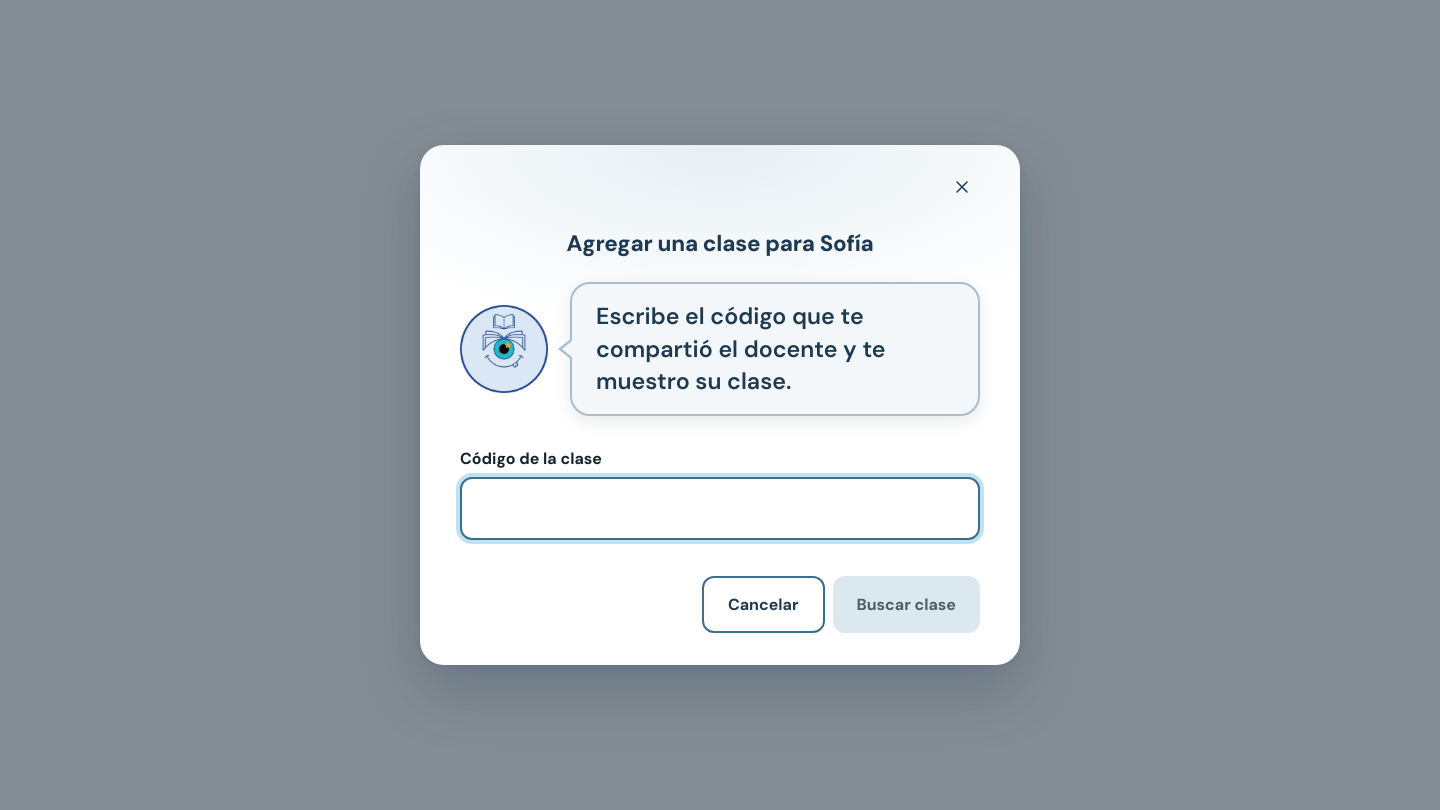
AddClassDialog › doesn't let the same request go twice
Type "k7#mp2$x" into the field labelled "Código de la clase".
click(720, 508); type("k7#mp2$x")  # box left=460, top=477, right=980, bottom=540
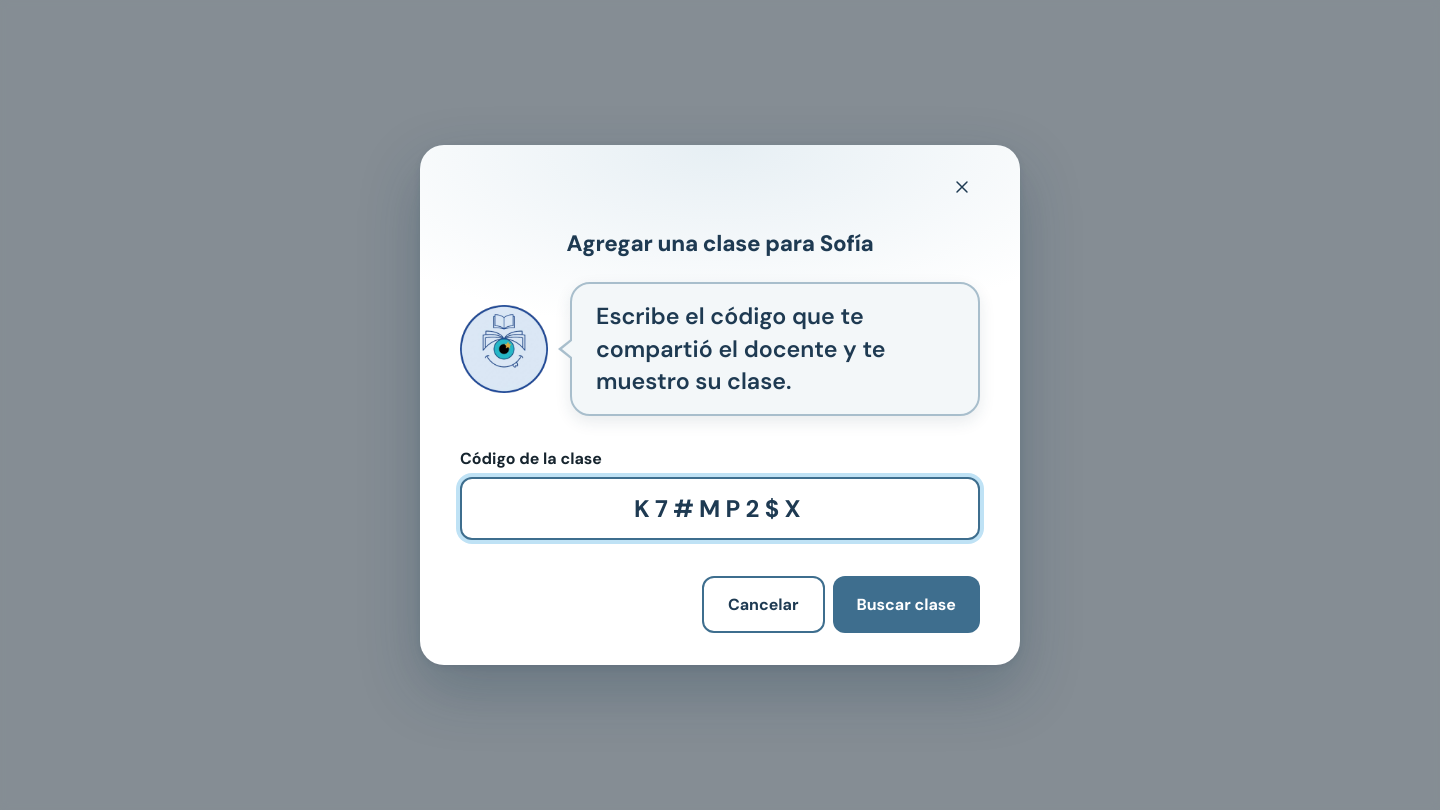
Click the button "Buscar clase".
click(906, 604)  # box left=832, top=576, right=980, bottom=633
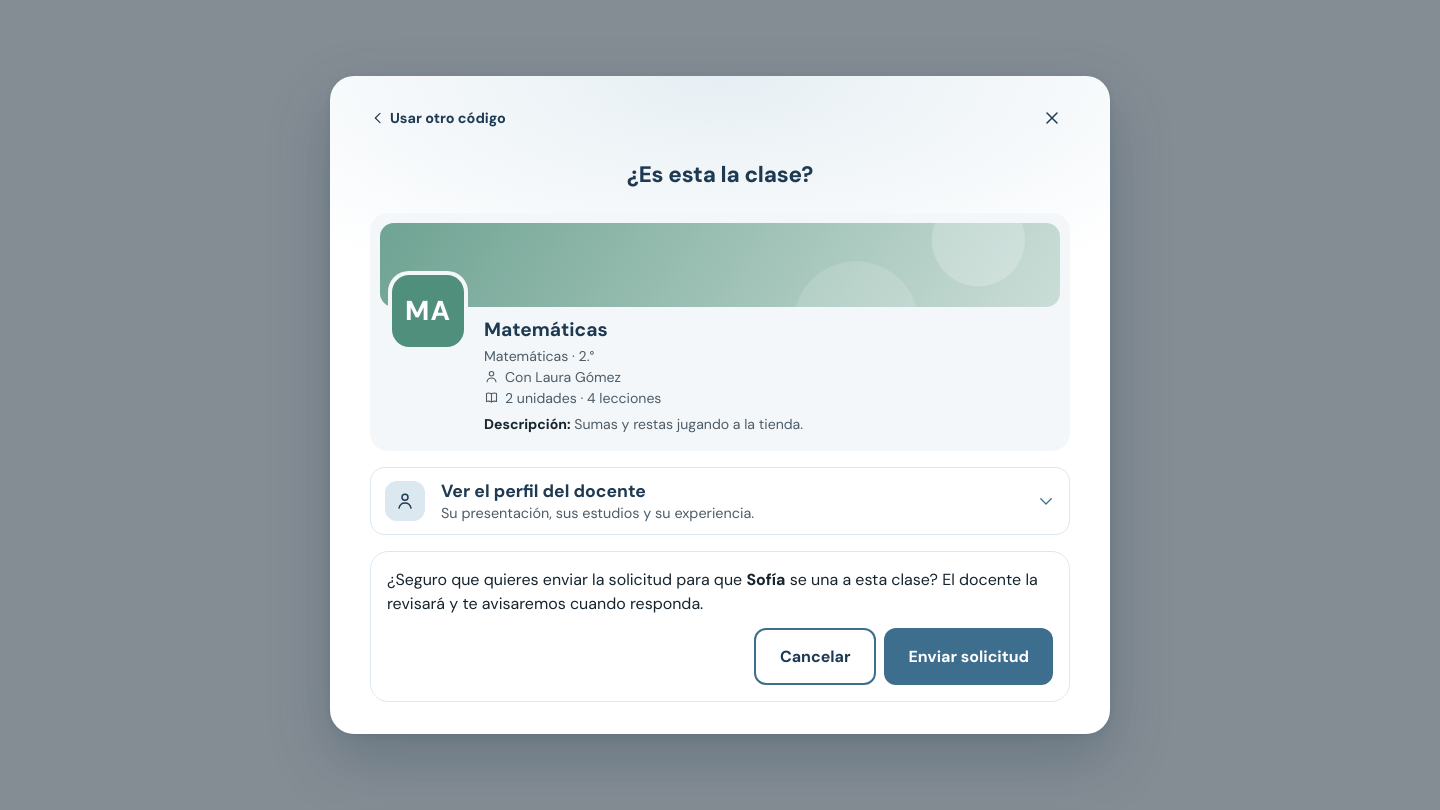
Click the button "Enviar solicitud".
click(969, 656)  # box left=884, top=628, right=1053, bottom=685
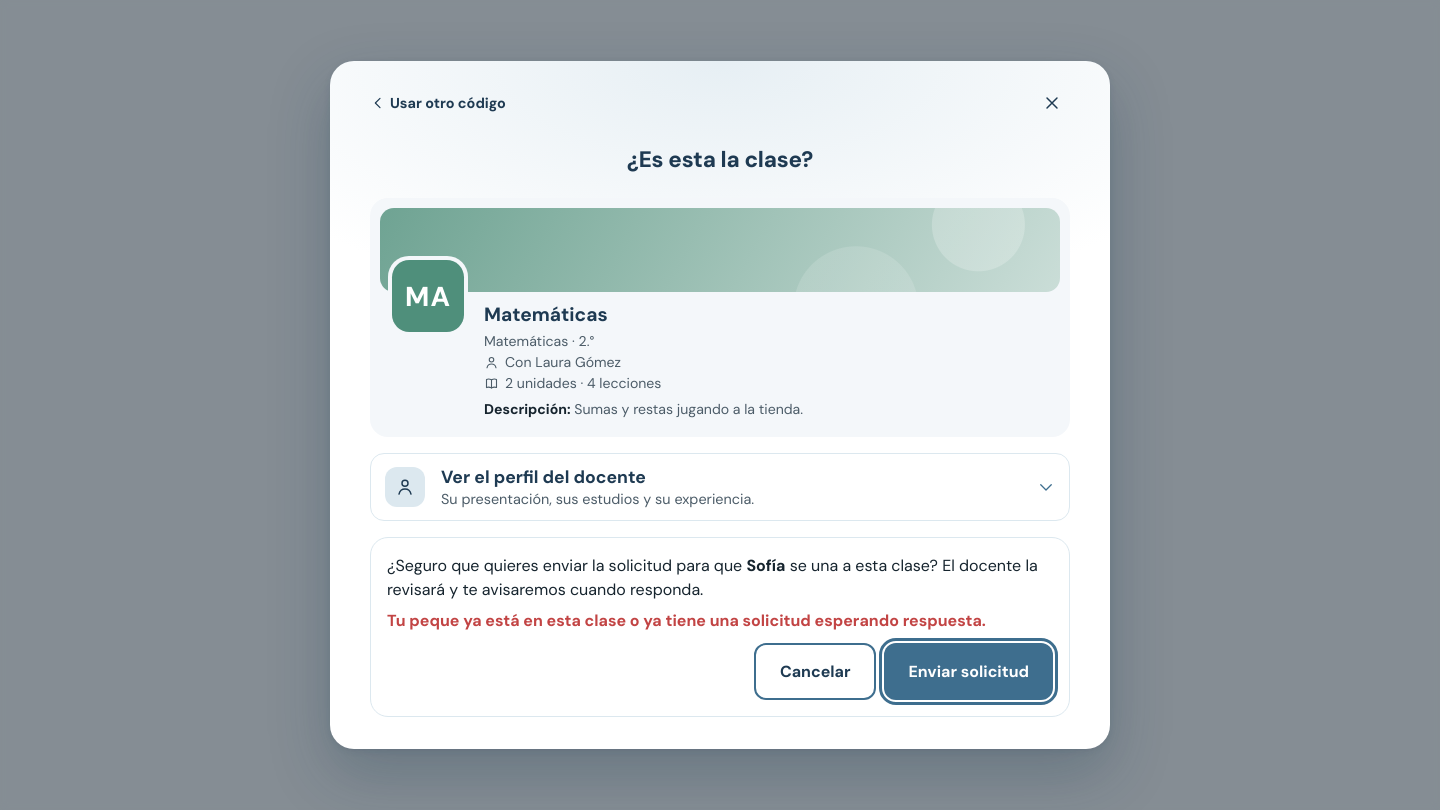
Now the message shows "Tu peque ya está en esta clase", box left=387, top=610, right=986, bottom=630
